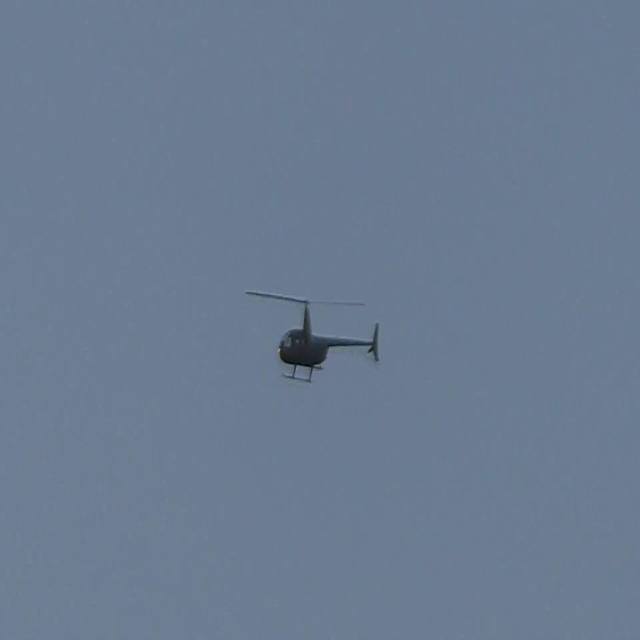CIV_HELO: (277, 298, 381, 385)
